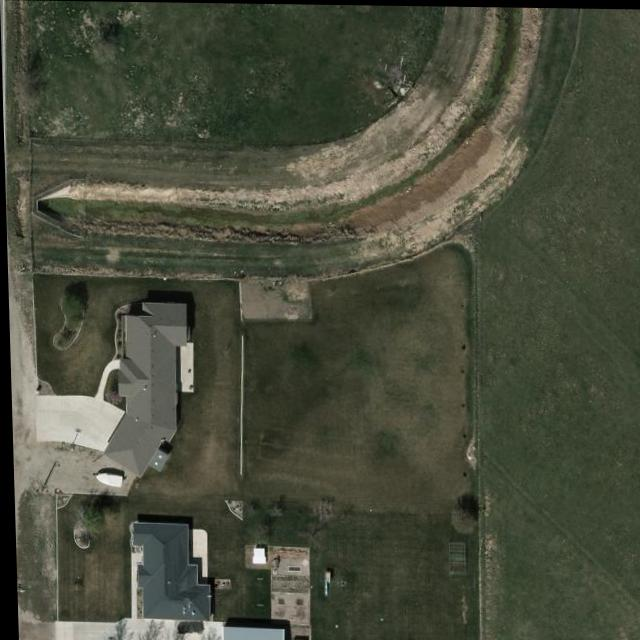vehicle: (174, 621, 203, 634)
